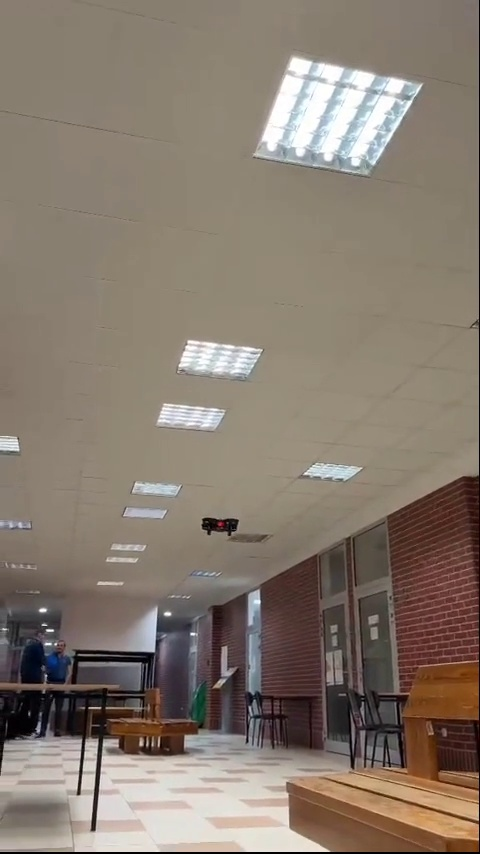drone: (198, 514, 245, 541)
no vest: (50, 638, 75, 733), (26, 631, 48, 728)
